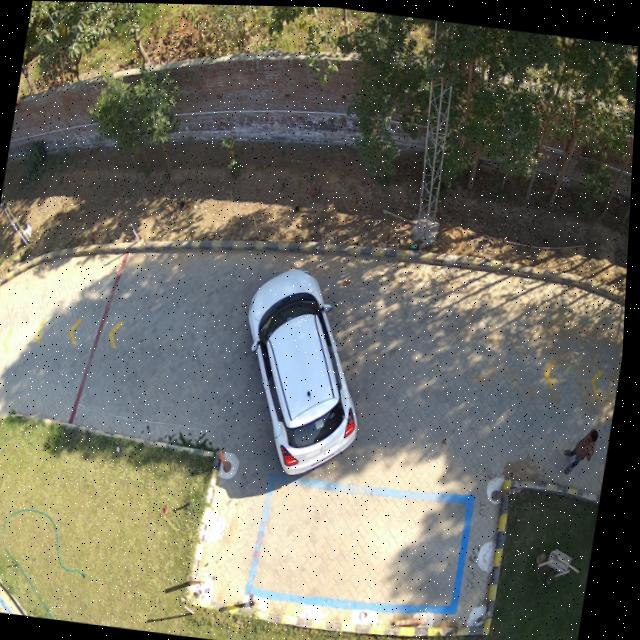car: (251, 267, 361, 473)
